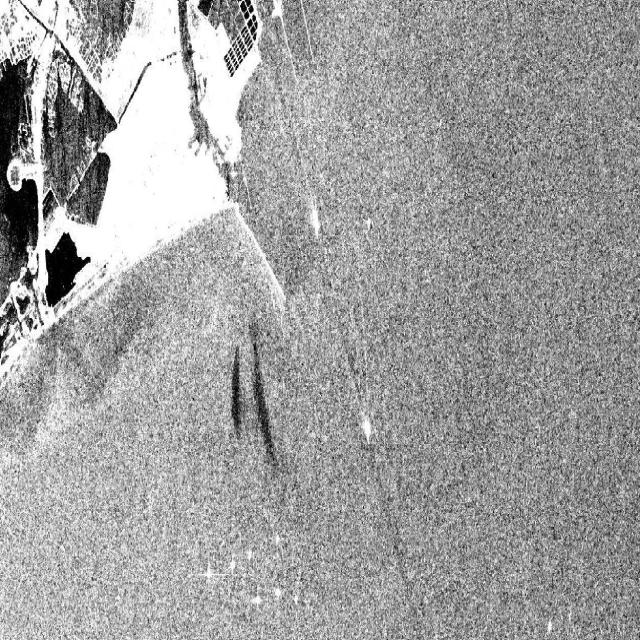look-alike: (248, 344, 282, 469), (223, 336, 247, 443)
